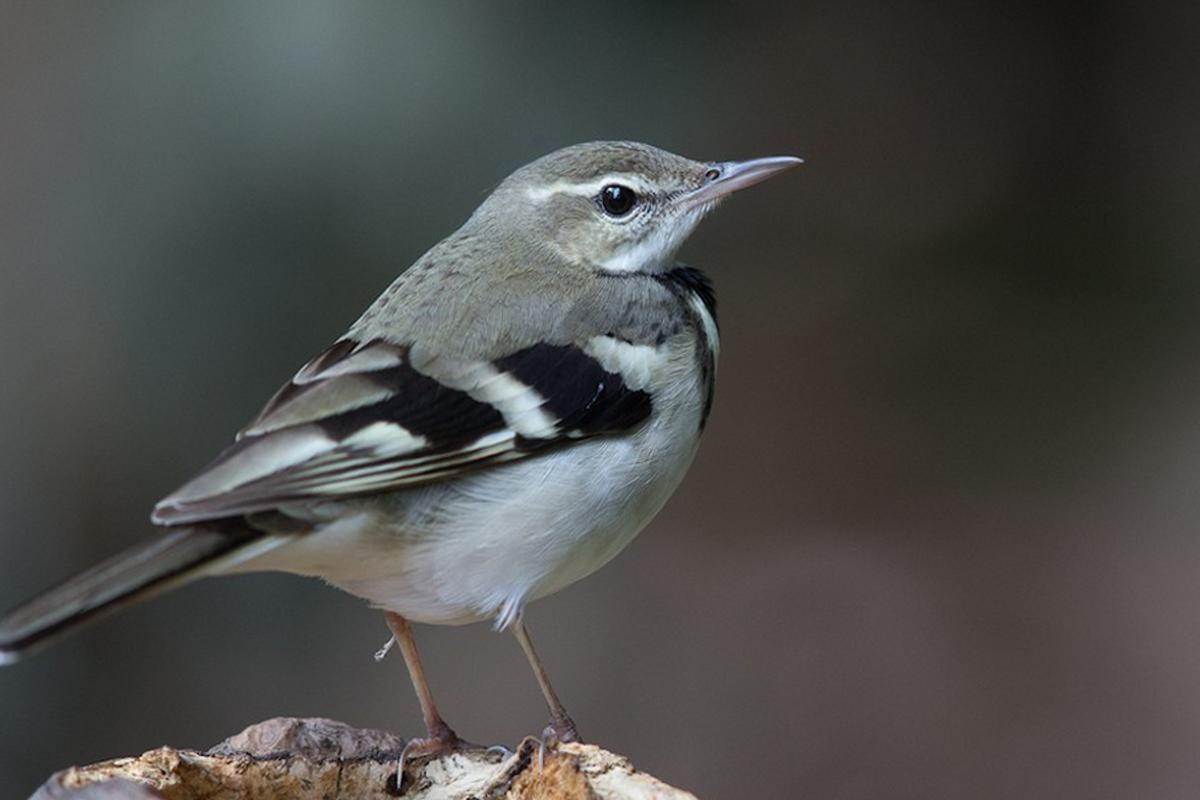wagtail: (47, 125, 810, 723)
